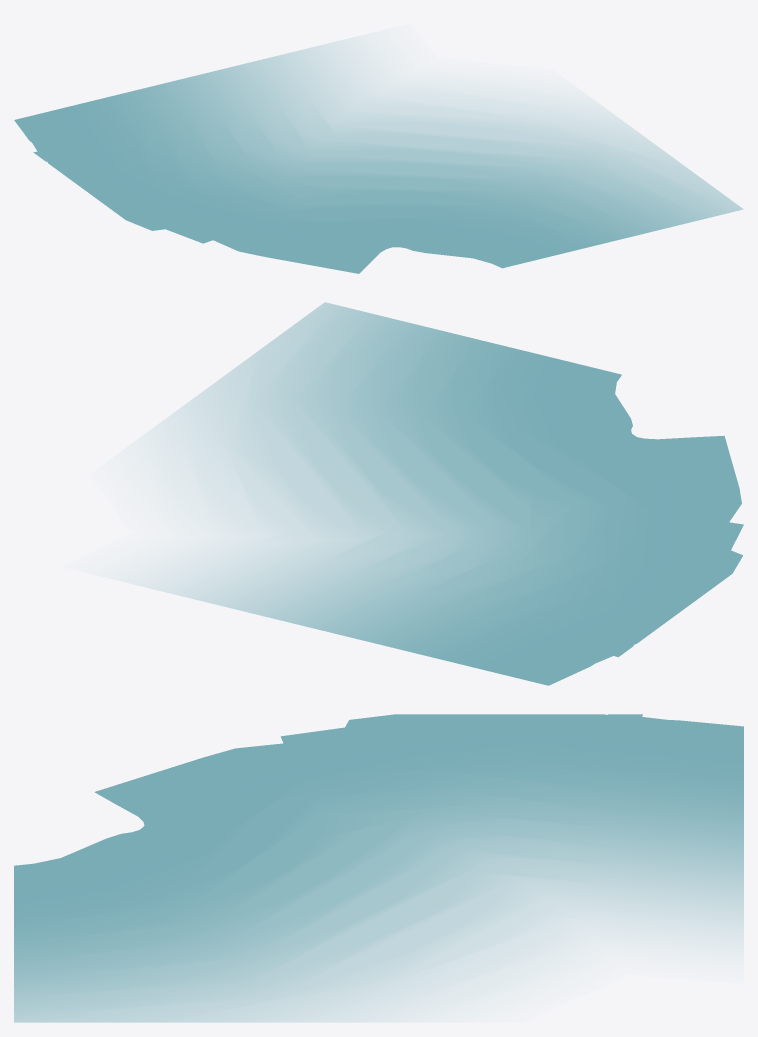
The picture shows the model from 3 angles, top to bottom: view 1: azimuth 30°, elevation 25°; view 2: azimuth 150°, elevation 25°; view 3: azimuth 270°, elevation 25°; orthographic projection. The views are drawn at different scales.
Visible parts, largest first — view 1: city; view 2: city; view 3: city.
Part boxes in pixels (x1=…): city: x1=14, y1=38, x2=743, y2=273; city: x1=131, y1=302, x2=743, y2=685; city: x1=14, y1=714, x2=743, y2=1022.
Size of the model in its own units: 500 by 0 by 500.
